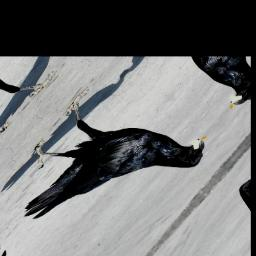Crow: (0, 78, 217, 256)
